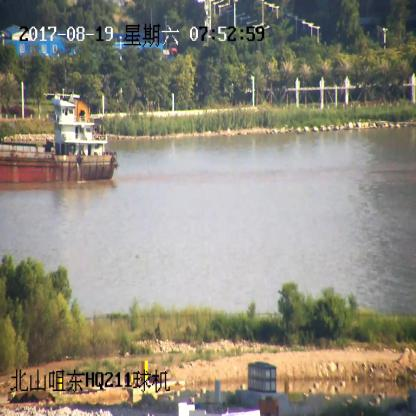Bulk Carrier: (0, 91, 116, 183)
